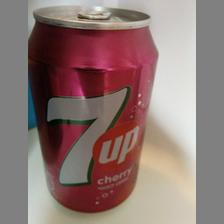Soda: (26, 3, 158, 213)
